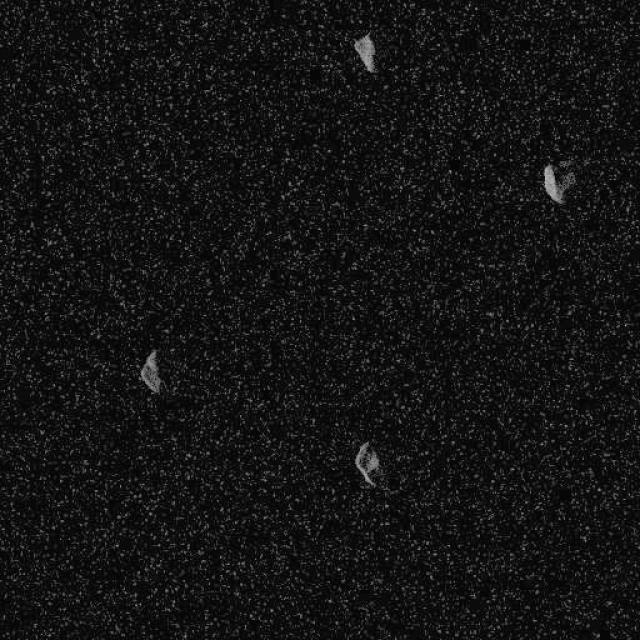D2: (542, 160, 576, 205), (352, 440, 382, 488), (138, 348, 164, 394), (352, 31, 378, 74)
